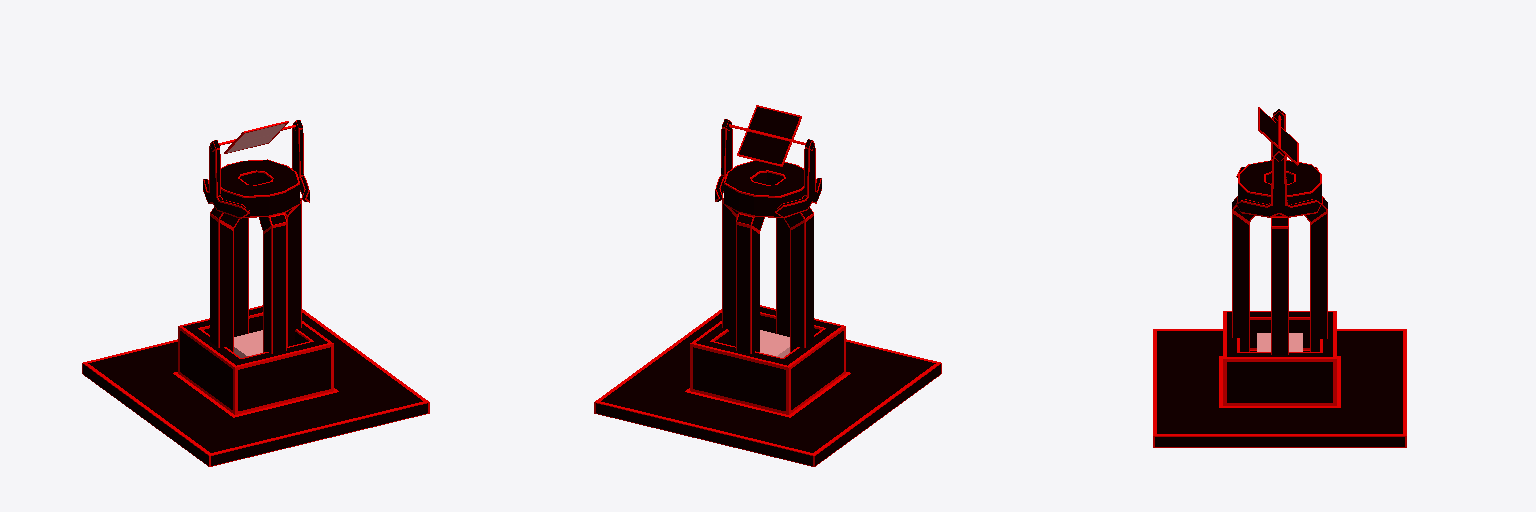
3 renders of one model, left to right at view 1: azimuth 30°, elevation 25°; view 2: azimuth 150°, elevation 25°; view 3: azimuth 270°, elevation 25°, orthographic.
Visible parts, largest first — view 1: Box004, Laser_L1_Support_1, Object002; view 2: Box004, Laser_L1_Support_1, Object002; view 3: Box004, Laser_L1_Support_1, Object002.
Part boxes in pixels (x1,y1,x2,y2): Box004: (82,305,429,466); Laser_L1_Support_1: (210,159,301,353); Object002: (203,120,309,218); Box004: (594,305,941,466); Laser_L1_Support_1: (722,160,813,353); Object002: (715,105,821,217); Box004: (1153,311,1406,447); Laser_L1_Support_1: (1232,160,1327,354); Object002: (1236,107,1321,217).
Size of the model in its own units: 20 by 23.94 by 20.
1 materials, 1 textured.